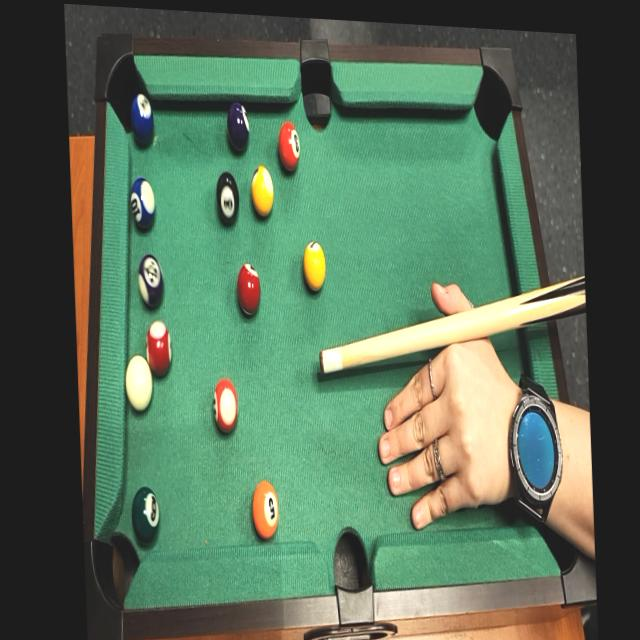cue ball: (122, 354, 157, 415)
other: (134, 250, 170, 312), (143, 320, 177, 381), (250, 476, 280, 544), (211, 373, 241, 438), (275, 119, 305, 183), (223, 95, 253, 156), (235, 260, 265, 321), (130, 486, 160, 547), (127, 179, 159, 236), (247, 166, 278, 222), (131, 91, 158, 151), (303, 239, 329, 296), (214, 171, 239, 227)
